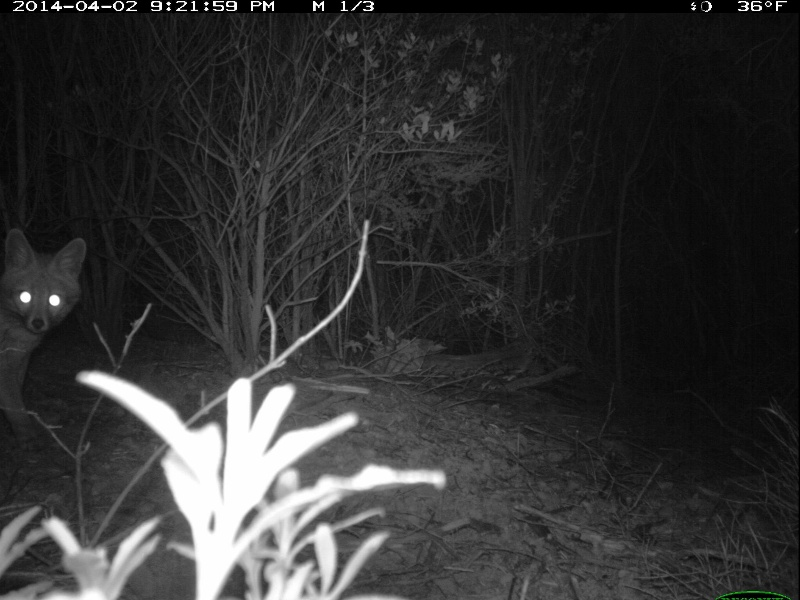fox: (1, 224, 92, 455)
